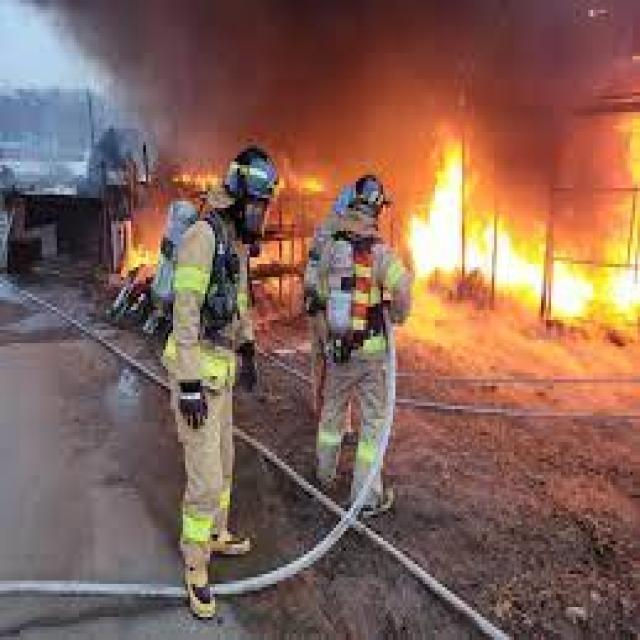Fire: (429, 182, 472, 270), (524, 266, 582, 310), (483, 238, 518, 302), (614, 286, 634, 312)
Smoke: (98, 4, 628, 102), (278, 109, 450, 195), (159, 94, 266, 144), (38, 1, 104, 54)
